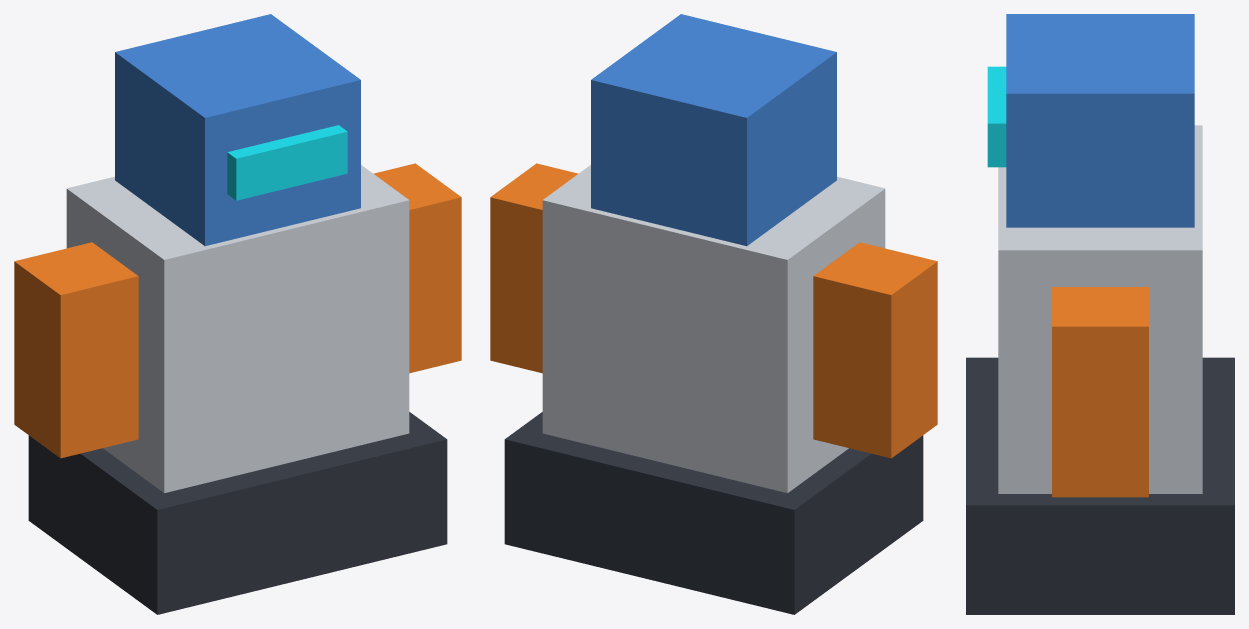
The model's file is robot.obj.
3 renders of one model, left to right at view 1: azimuth 30°, elevation 25°; view 2: azimuth 150°, elevation 25°; view 3: azimuth 270°, elevation 25°, orthographic. The views are drawn at different scales.
Parts seen in each view (by area): view 1: Torso, Base_Orugas, Cabeza, Brazo_Izquierdo, Brazo_Derecho, Visor; view 2: Torso, Base_Orugas, Cabeza, Brazo_Izquierdo, Brazo_Derecho; view 3: Base_Orugas, Cabeza, Torso, Brazo_Derecho, Visor.
Part boxes in pixels (left/top/right/bottom): Torso: left=66, top=165, right=409, bottom=493; Base_Orugas: left=28, top=412, right=447, bottom=614; Cabeza: left=115, top=14, right=360, bottom=246; Brazo_Izquierdo: left=14, top=242, right=138, bottom=458; Brazo_Derecho: left=373, top=163, right=461, bottom=373; Visor: left=227, top=125, right=347, bottom=200; Torso: left=542, top=165, right=885, bottom=493; Base_Orugas: left=504, top=412, right=923, bottom=614; Cabeza: left=591, top=14, right=836, bottom=246; Brazo_Izquierdo: left=813, top=242, right=937, bottom=458; Brazo_Derecho: left=490, top=163, right=578, bottom=373; Base_Orugas: left=966, top=357, right=1234, bottom=614; Cabeza: left=1006, top=14, right=1194, bottom=227; Torso: left=998, top=125, right=1202, bottom=493; Brazo_Derecho: left=1052, top=287, right=1148, bottom=497; Visor: left=987, top=66, right=1006, bottom=167.
Bounding box in the file's own units: 1.8 × 2 × 1.
